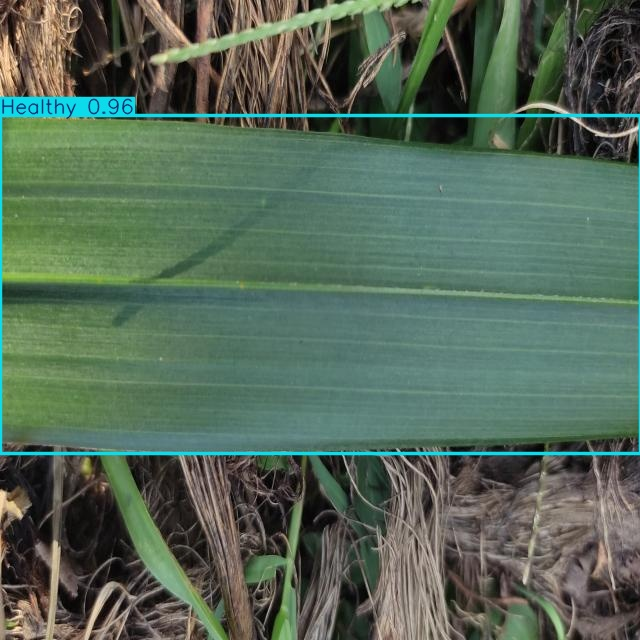Healthy: (0, 115, 640, 453)
